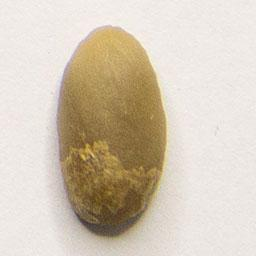longberry: (53, 20, 170, 230)
